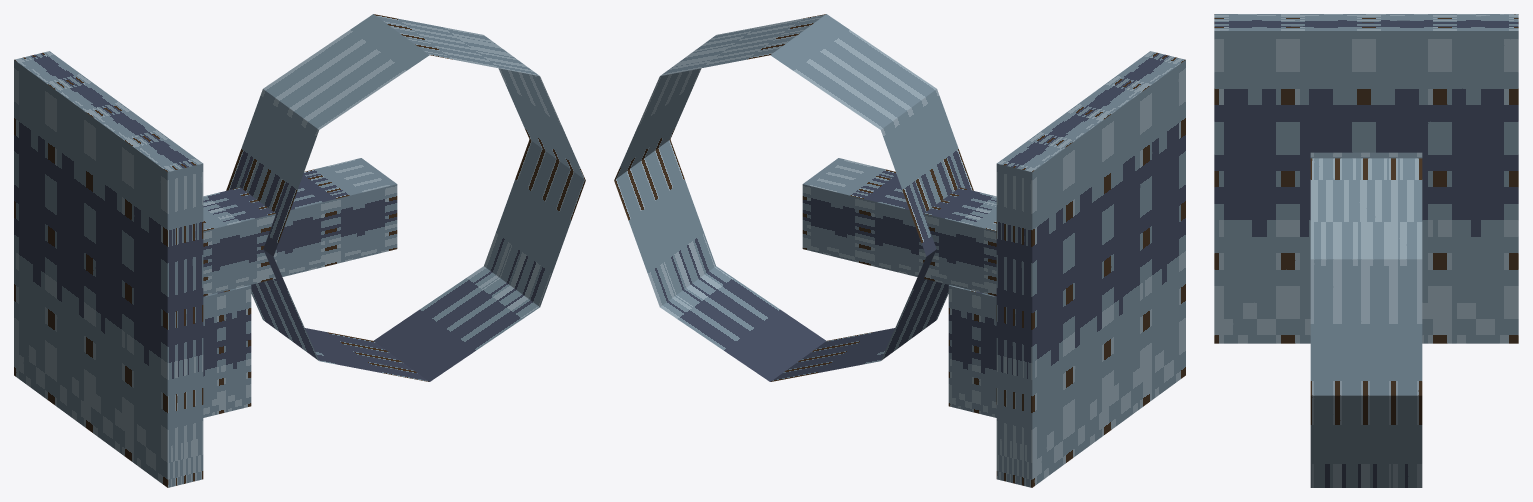
File: IND-04_Tubo_soporte.gltf
3 views of the same model, side by side, from view 1: azimuth 30°, elevation 25°; view 2: azimuth 150°, elevation 25°; view 3: azimuth 270°, elevation 25° (orthographic).
Visible parts, largest first — view 1: IND-04_Tubo_soporte-convcol; view 2: IND-04_Tubo_soporte-convcol; view 3: IND-04_Tubo_soporte-convcol.
Part boxes in pixels (<box>): IND-04_Tubo_soporte-convcol: <box>14,14,585,487</box>; IND-04_Tubo_soporte-convcol: <box>614,14,1185,487</box>; IND-04_Tubo_soporte-convcol: <box>1214,14,1518,487</box>.
Size of the model in its own units: 0.526 by 0.352 by 0.3.
Materials: 1 (1 with a texture image).
